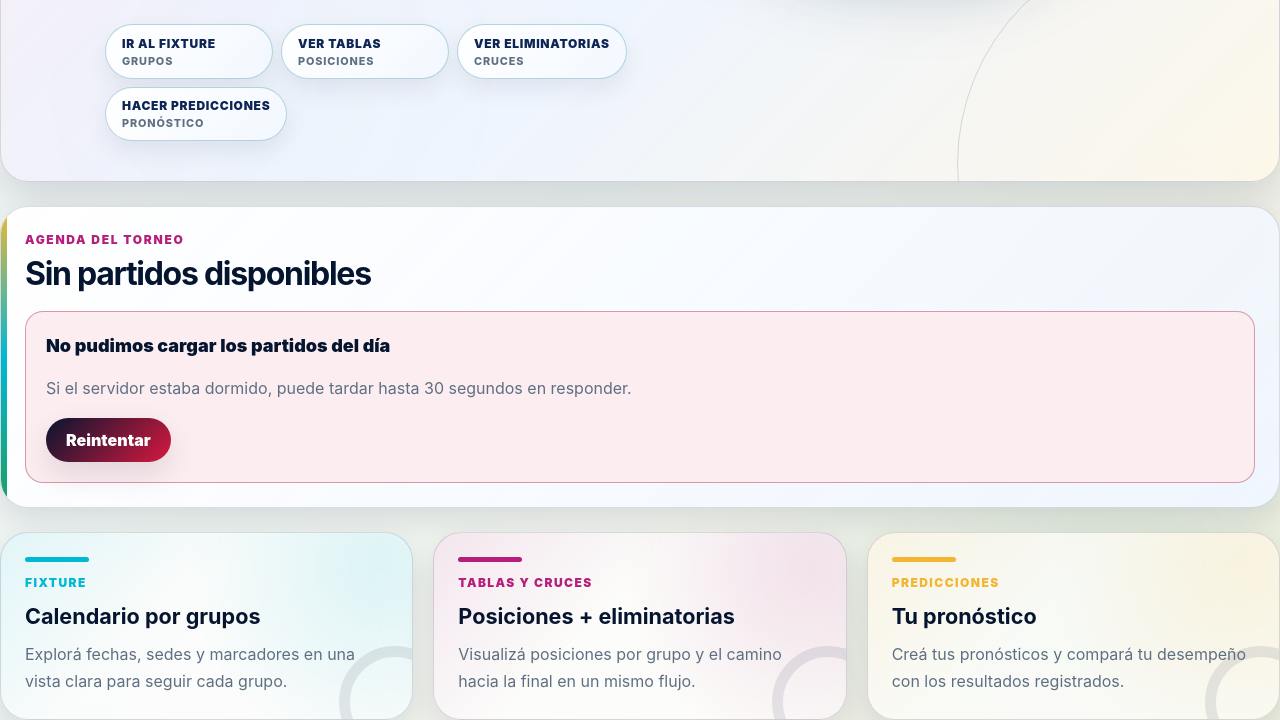
Test case: Home › retries loading the daily schedule from the error state
(page scrolled)
Expected: the message shows "No pudimos cargar los partidos del día", [46,335,390,356]
What coordinates should you click on to do the following:
click the button "Reintentar"
I would click on:
 (108, 440)
Its box is [46,418,171,462].
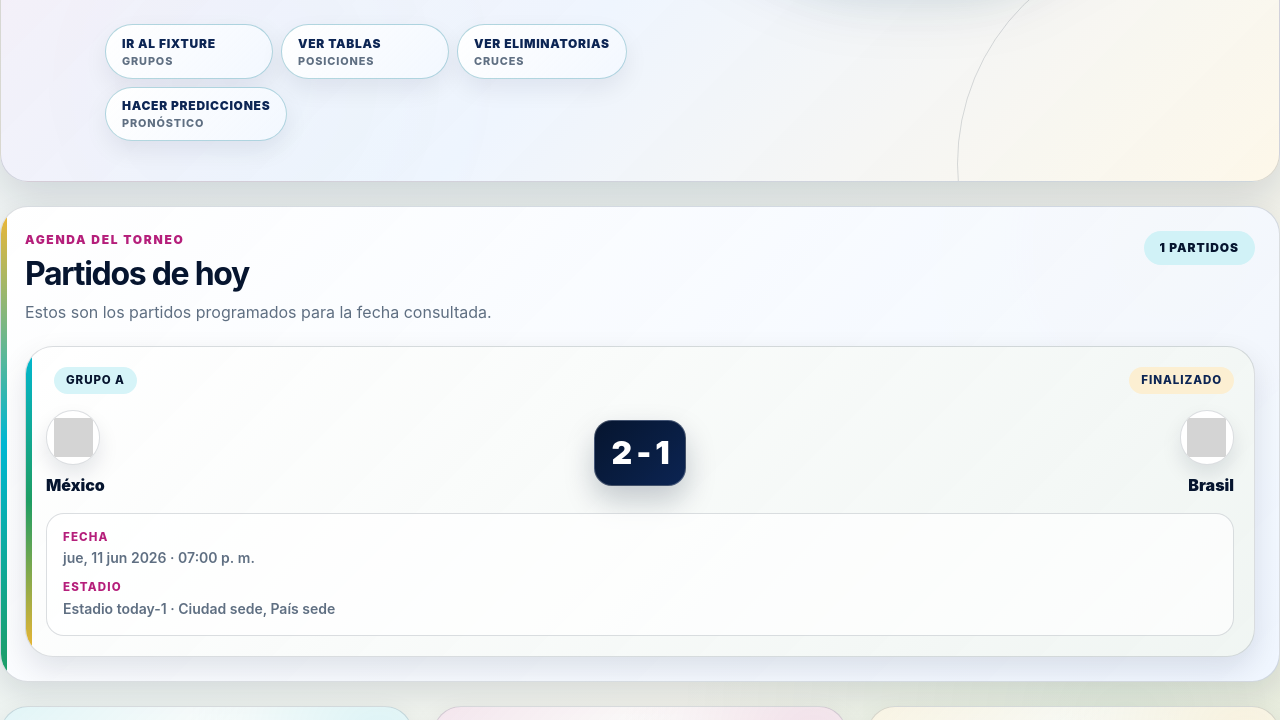
Expected: the heading "Partidos de hoy" is shown, [25,254,249,293]
